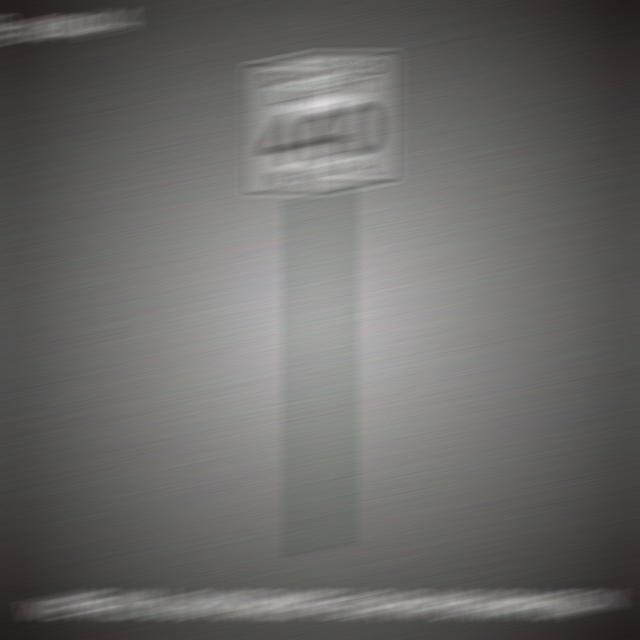speedLimit40: (268, 60, 383, 194)
